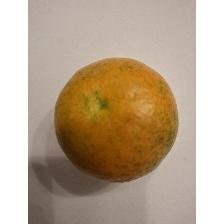Mandarine: (51, 52, 184, 188)
